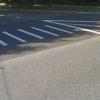Crosswalk: (3, 12, 91, 53)
